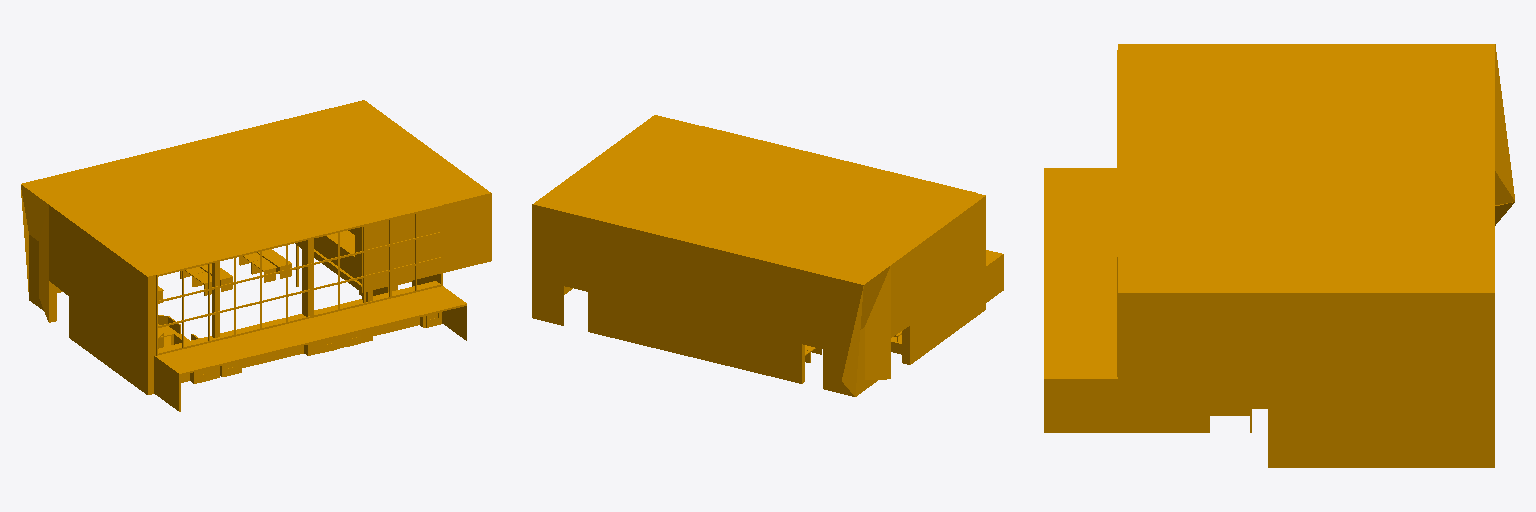
robot.urdf — gerard_bauzil:
<?xml version="1.0" ?>
<robot name="gerard_bauzil">
  <gazebo >
    <static>true</static>
  </gazebo>
  <link name="base_link">
    <inertial>
      <origin xyz="0 0 0" rpy="0 0 0"/>
      <mass value="100.00"/>
      <!-- <inertia ixx="0.01" ixy="0" ixz="0" iyy="0.01" iyz="0" izz="0.01"/> -->
      <inertia ixx="1.0" ixy="0" ixz="0" iyy="1.00" iyz="0" izz="1.0"/>
    </inertial>
    <visual>
      <origin rpy="0 0 0" xyz="0 0 0"/>
      <geometry>
        <mesh filename="package://gerard_bauzil/wall_laas15_without_floor.dae"/>
        <!-- <mesh filename="package://gerard_bauzil/wall_laas15_koroibot.dae"/> -->
      </geometry>
    </visual>
    <!--<visual>-->
    <!--<origin rpy="0 0 0" xyz="0 0 0"/>-->
    <!--<geometry>-->
    <!--<mesh filename="package://gerard_bauzil/wall_laas15.dae"/>-->
    <!--</geometry>-->
    <!--</visual>-->
    <collision>
      <origin rpy="0 0 0" xyz="0 0 0"/>
      <geometry>
        <mesh filename="package://gerard_bauzil/wall_laas15_without_floor.dae"/>
        <!-- <mesh filename="package://gerard_bauzil/wall_laas15_koroibot.dae"/> -->
      </geometry>
    </collision>
  </link>

  <!-- <link name="world">
   </link>
  <joint name="dummy_joint" type="fixed">
     <parent link="dummy"/>
     <child link="base_link"/>
   </joint> -->
  <!-- 
 <link name="world" />

 <joint name="world_joint" type="fixed">
    <parent link="world" />
    <child link = "base_link" />
    <origin xyz="0.0 0.0 0.015" rpy="0.0 0.0 0.0" />
 </joint> -->
</robot>

--- Render facts (derived) ---
Views: 3 orthographic renders of the robot side by side, from view 1: azimuth 30°, elevation 25°; view 2: azimuth 150°, elevation 25°; view 3: azimuth 270°, elevation 25°.
Robot: gerard_bauzil — 1 links, 0 joints (none); root link base_link; default pose: all joints at 0.
Visible links, largest first — view 1: base_link; view 2: base_link; view 3: base_link.
Link boxes in pixels (x1=…): base_link: x1=21, y1=100, x2=491, y2=411; base_link: x1=532, y1=115, x2=1003, y2=396; base_link: x1=1044, y1=44, x2=1514, y2=467.
Size in the robot's own frame: 19.92 by 15.93 by 6.57 metres.
Meshes: 1 distinct files referenced, 1 mesh visuals loaded (1 Collada DAE).
